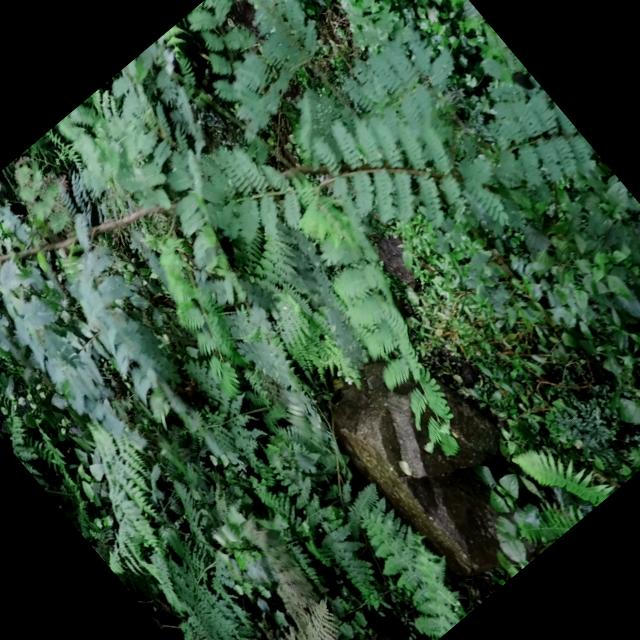Mysore-Thorn-Weed: (0, 0, 616, 574)
